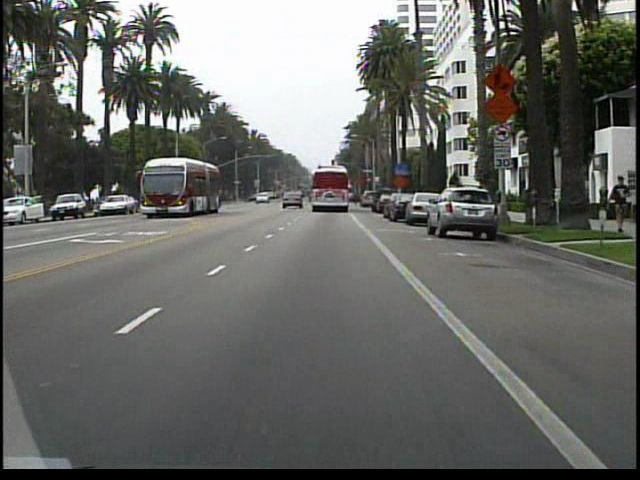person: (604, 171, 629, 234)
